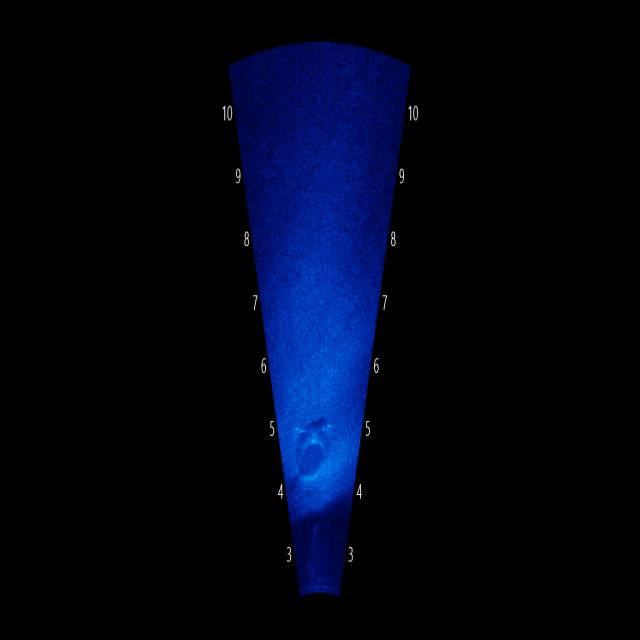circle: (288, 418, 348, 496)
